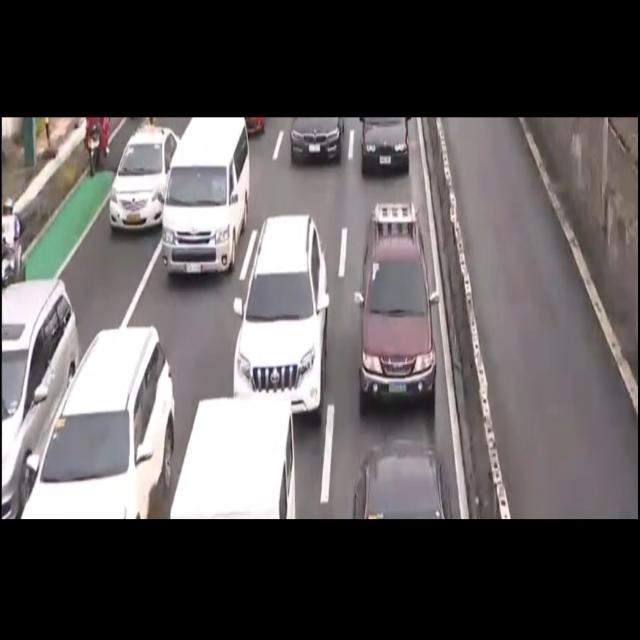Motorcycle: (0, 198, 24, 292)
Pick-up: (167, 396, 298, 522)
SUV: (20, 327, 172, 517), (230, 215, 328, 416), (0, 281, 76, 498), (358, 204, 438, 409), (353, 438, 452, 522)
Sedan: (111, 119, 172, 237)
Van: (160, 114, 248, 277)
